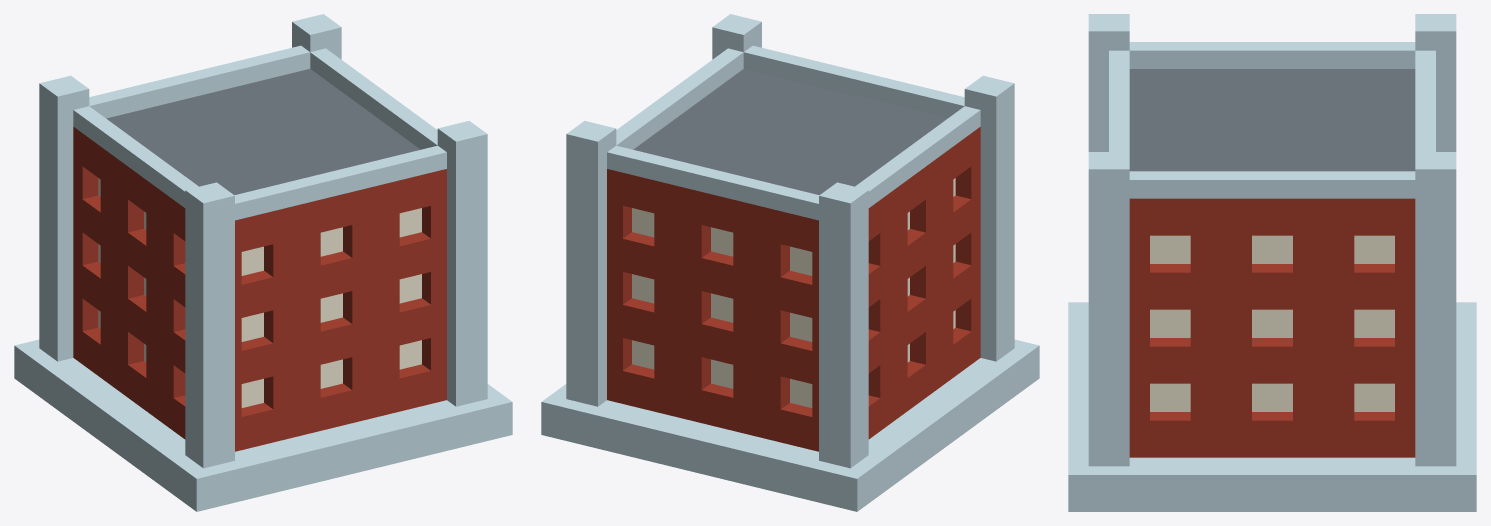
Rendered from Building_11_Base (Red).obj.
3 views of the same model, side by side, from view 1: azimuth 30°, elevation 25°; view 2: azimuth 150°, elevation 25°; view 3: azimuth 270°, elevation 25° (orthographic). The views are drawn at different scales.
Visible parts, largest first — view 1: Building_11_Base_(Red); view 2: Building_11_Base_(Red); view 3: Building_11_Base_(Red).
Boxes of the visible parts, <box> form: Building_11_Base_(Red): <box>14,14,512,511</box>; Building_11_Base_(Red): <box>541,14,1039,511</box>; Building_11_Base_(Red): <box>1068,14,1476,511</box>.
Bounding box in the file's own units: 2 × 1.8 × 2.
